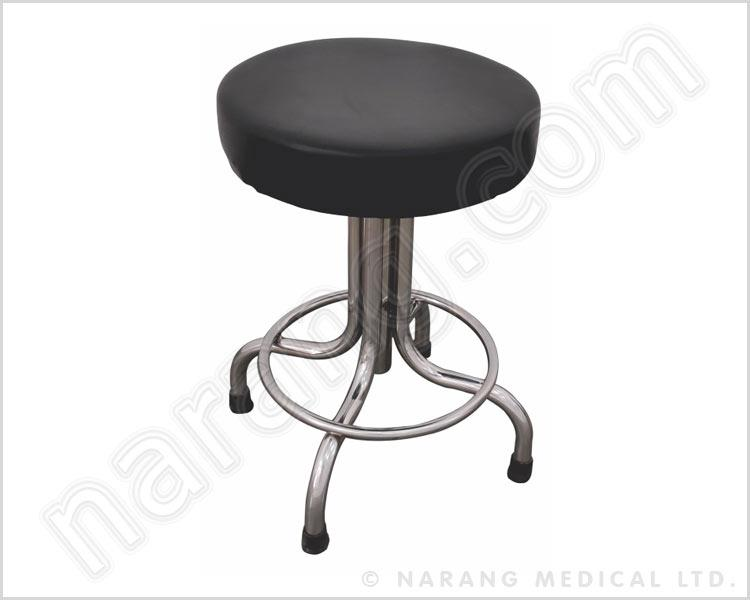stool: (215, 35, 542, 555)
